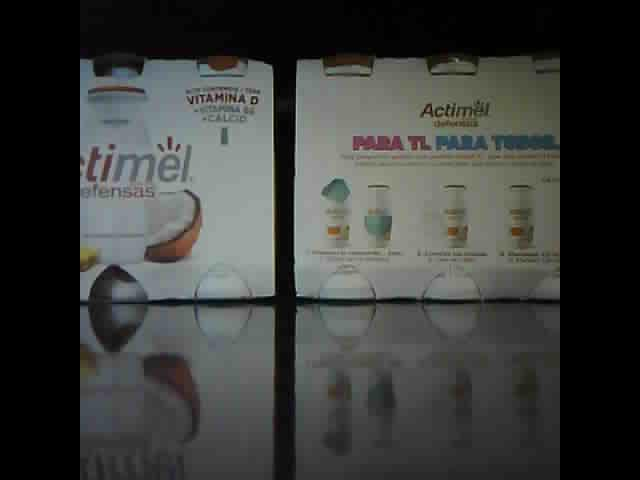actimel: (293, 51, 560, 305), (80, 51, 278, 303)
